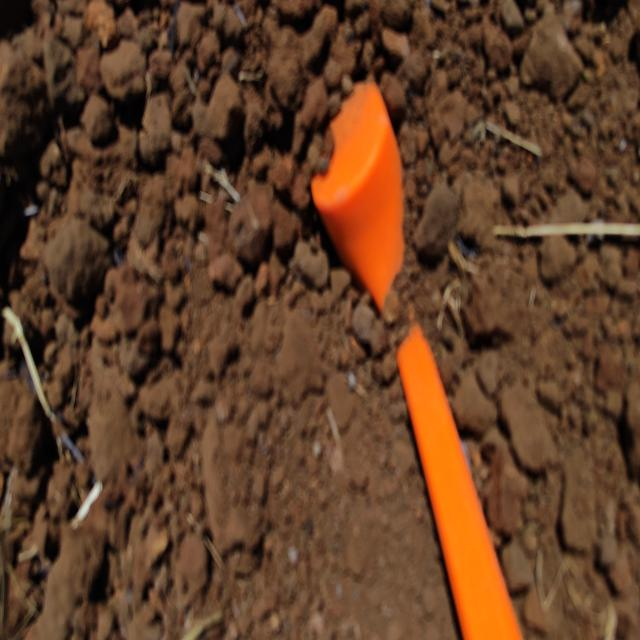Orange_hammer: (310, 78, 524, 638)
